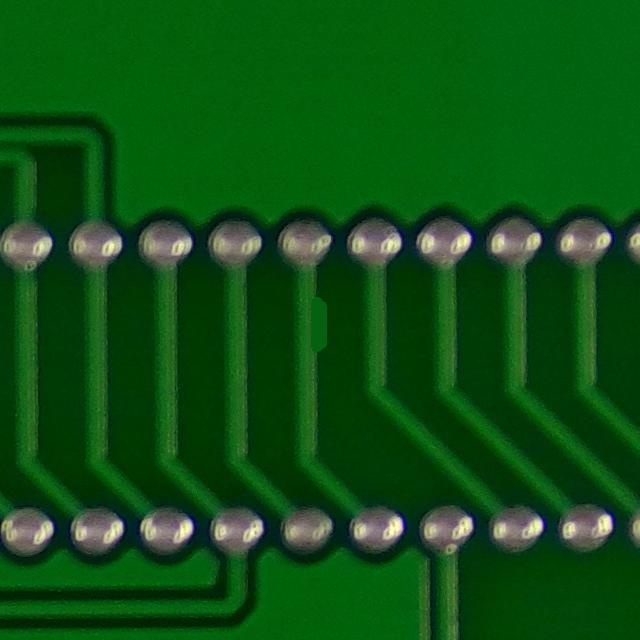spur: (297, 283, 343, 358)
